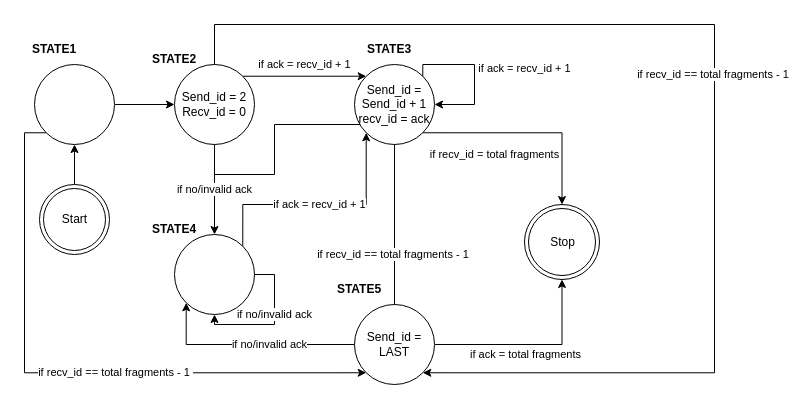
Some shapes in this 809 by 402 pixel diagram are drawn without their labels. Here are the shapes that lost their labels. From the top down, the centre of each, then its label:
At point (74, 104): "Send_id = 1 Recv_id = 0".
At point (214, 274): "Send_id = recv_id +1".
